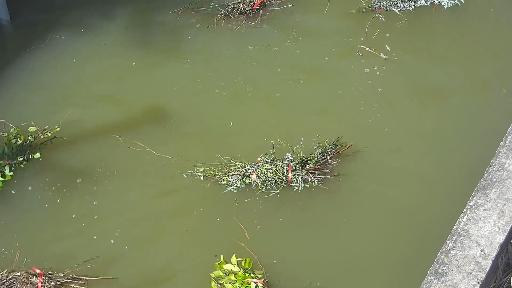twig: (191, 128, 381, 216), (0, 123, 89, 187), (179, 0, 303, 28), (202, 250, 283, 285), (3, 260, 99, 288), (332, 0, 466, 16)
